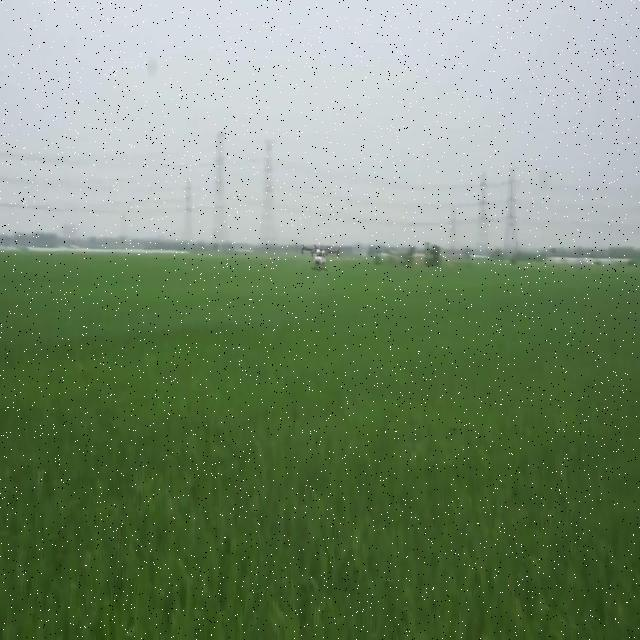UAV: (299, 240, 342, 275)
